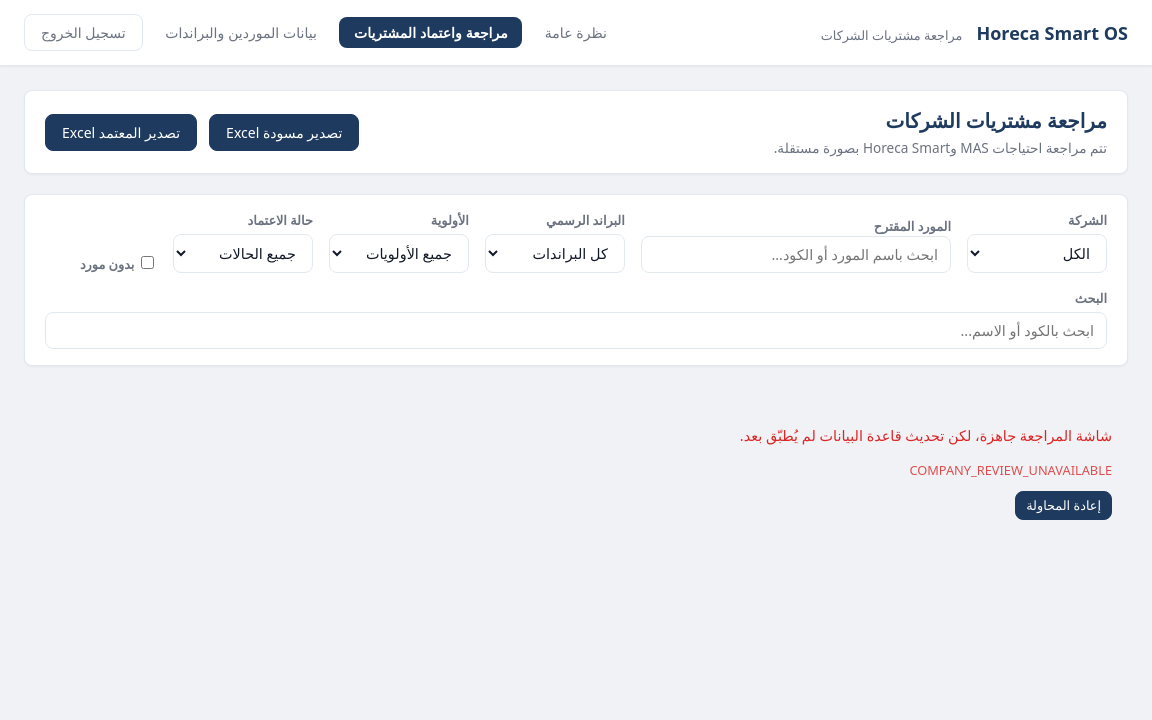
it: Company-First Procurement Review Page › shows loading, error, and empty states gracefully
Expected: the message is shown, [740,426,1112,520]
Click the button "إعادة المحاولة". click: point(1064, 505)
box: [1015,491,1112,520]
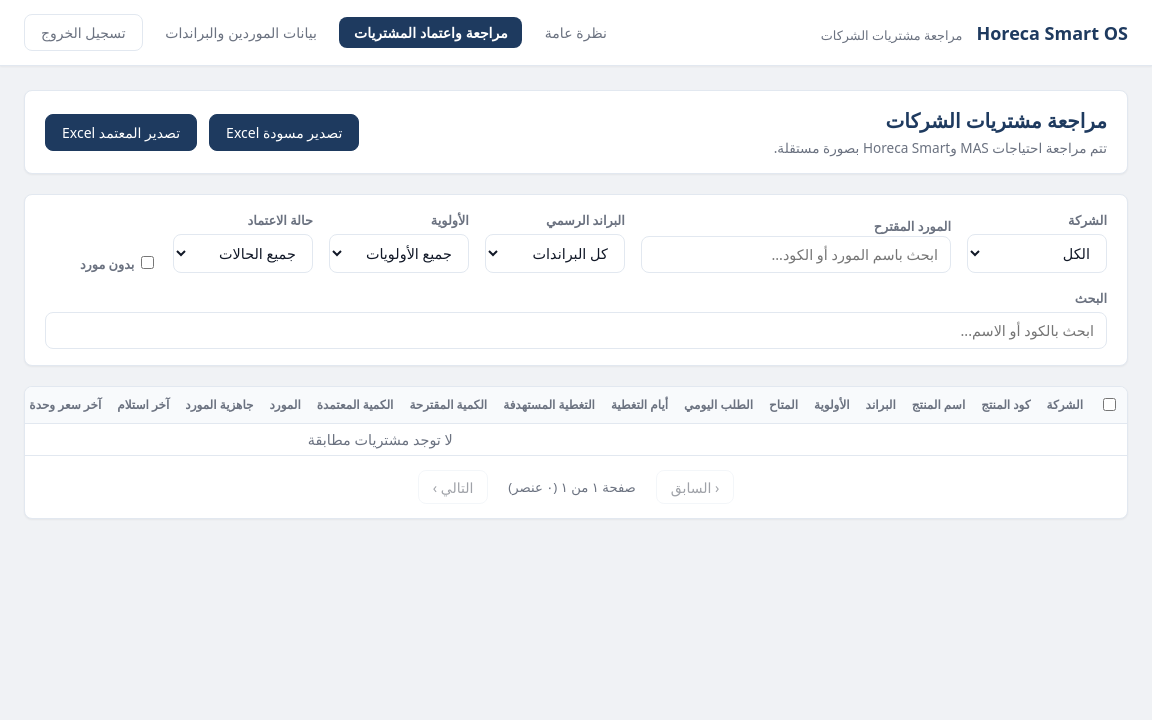
Now the text "لا توجد مشتريات مطابقة" is shown, box [25,423,1127,455]
